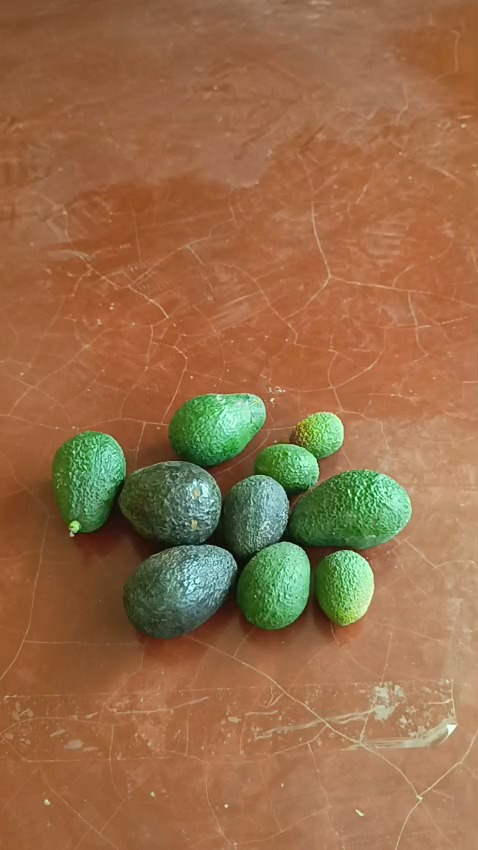Primera: (122, 542, 237, 637), (287, 469, 410, 548), (119, 460, 223, 545), (51, 431, 127, 533), (168, 392, 265, 466)
Segunda: (235, 540, 311, 628), (221, 474, 291, 559)
Tercera: (314, 549, 375, 626), (254, 443, 320, 496), (292, 411, 345, 460)
